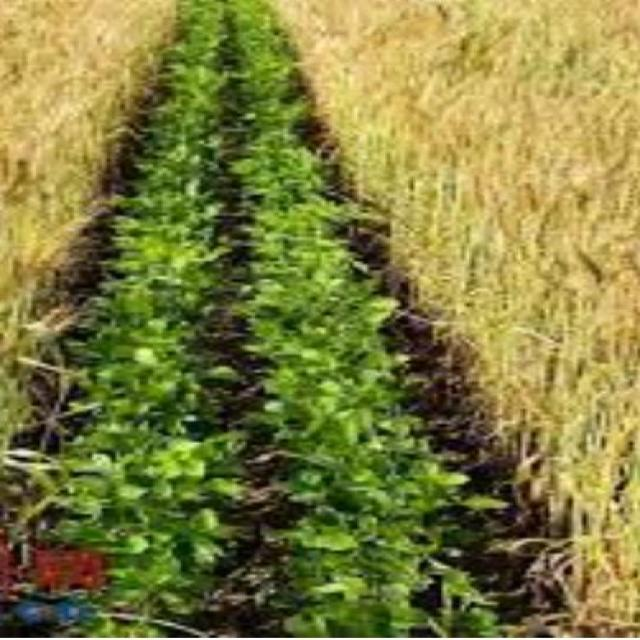row: (280, 26, 636, 640), (0, 11, 197, 634), (177, 11, 327, 640)
